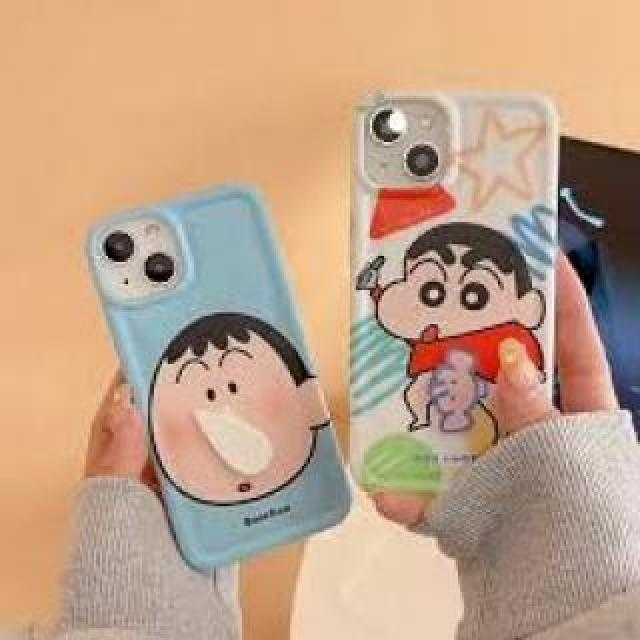smart phone: (87, 172, 348, 576), (344, 65, 564, 517)
